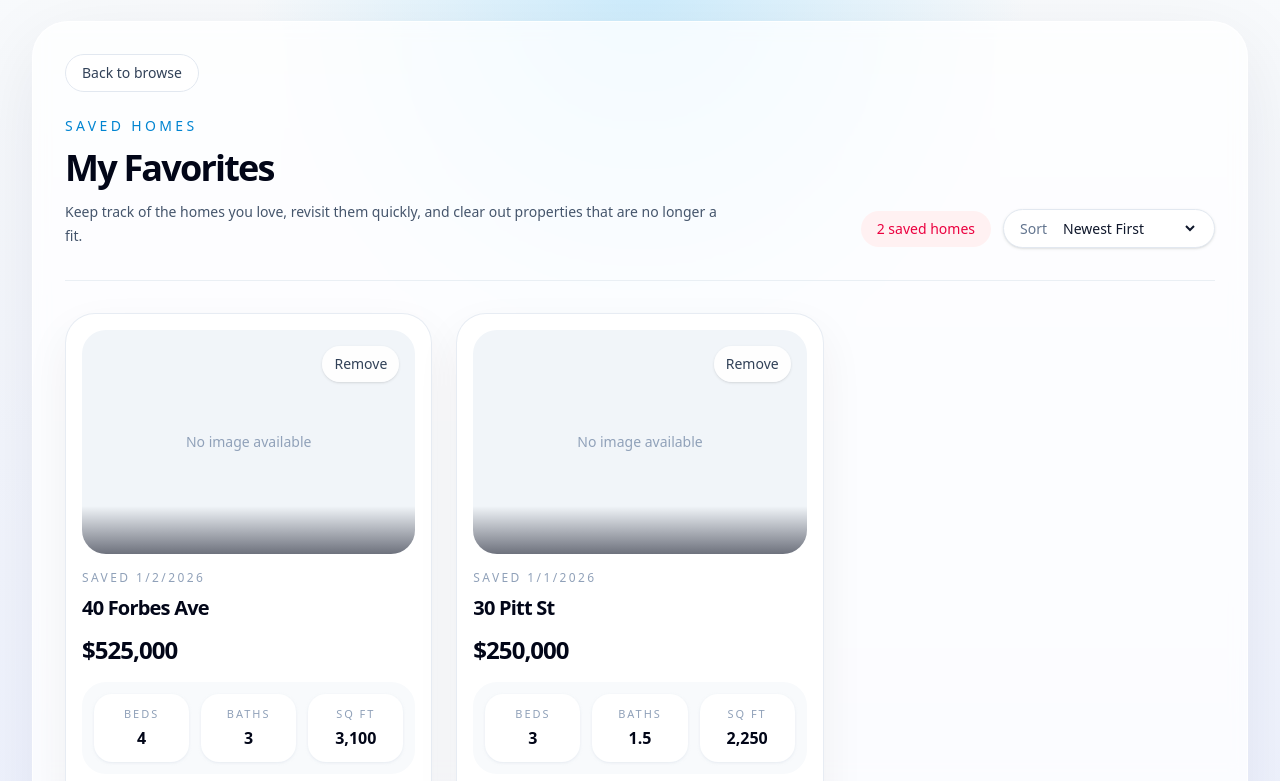
it: FavoritesPage › shows confirmation prompt when remove button is clicked
The width and height of the screenshot is (1280, 781).
What coordinates should you click on to do the following:
click the button with test id "remove-button-1"
I would click on:
 (752, 364)
Its box is [714, 346, 791, 382].
(page scrolled)
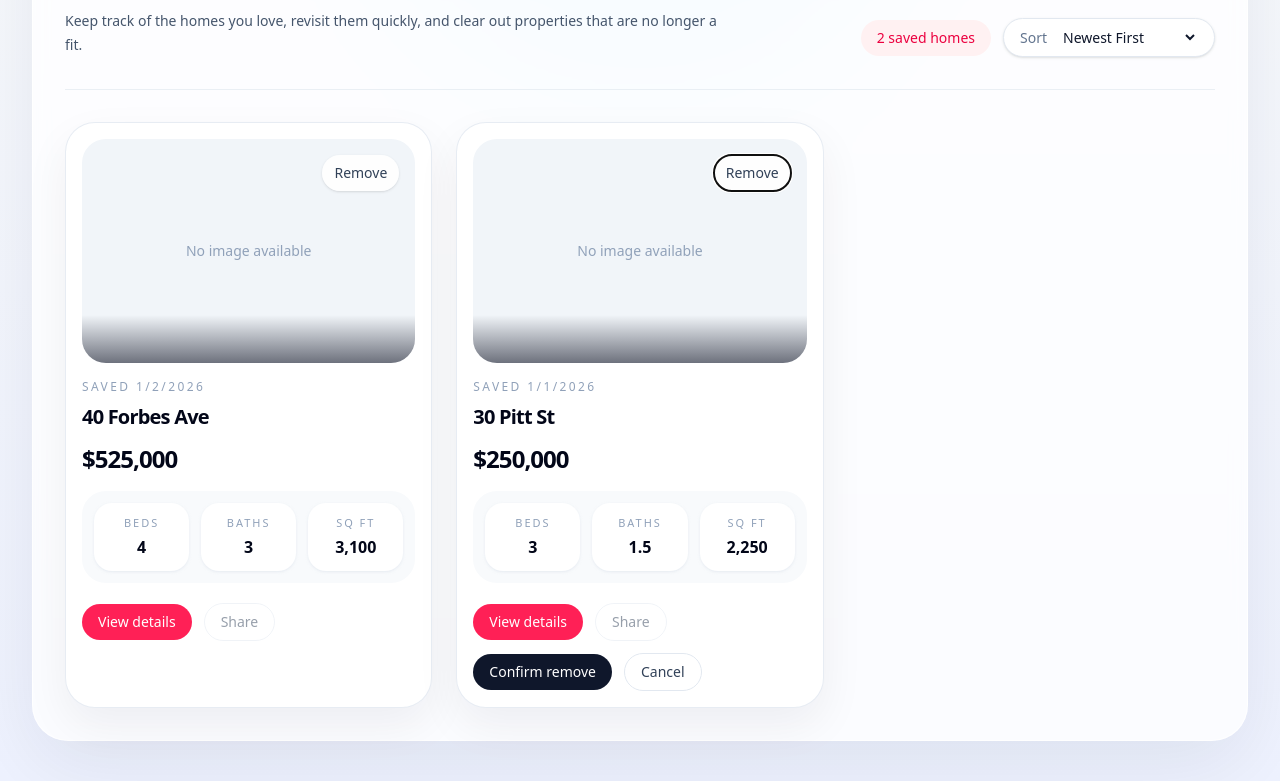
expect the button "Confirm remove" is shown: met, box [473, 654, 612, 690]
expect the button "Cancel" is shown: met, box [624, 653, 702, 691]
